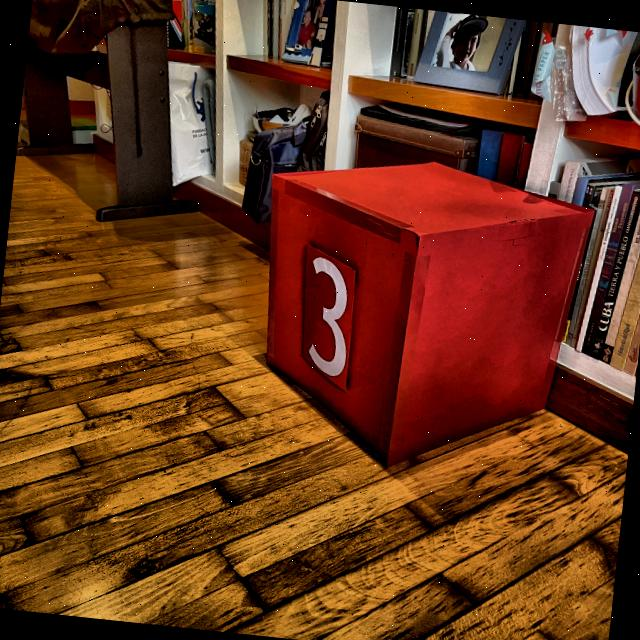red box: (244, 142, 594, 490)
three: (300, 252, 360, 382)
